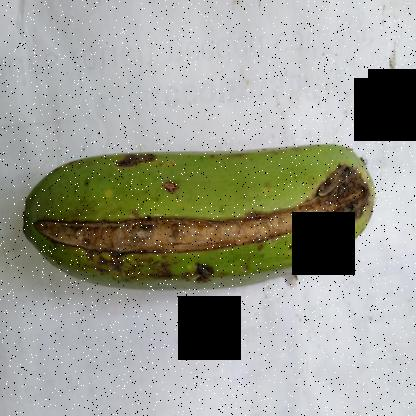rotten: (35, 164, 372, 289)
